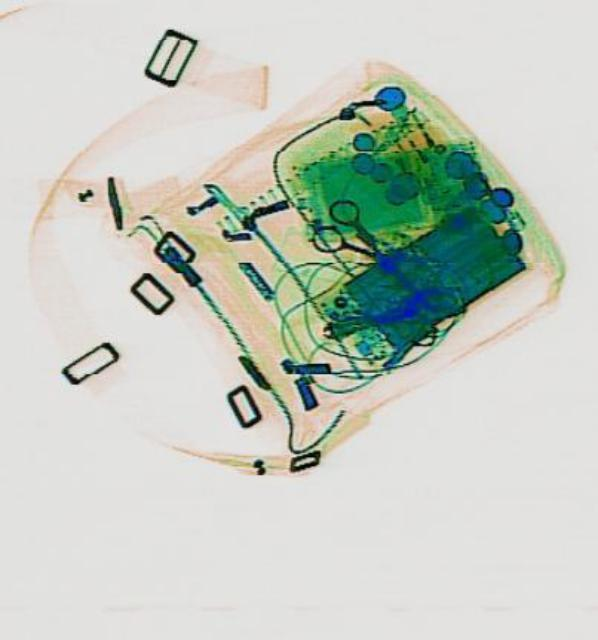Scissors: (301, 189, 427, 303)
